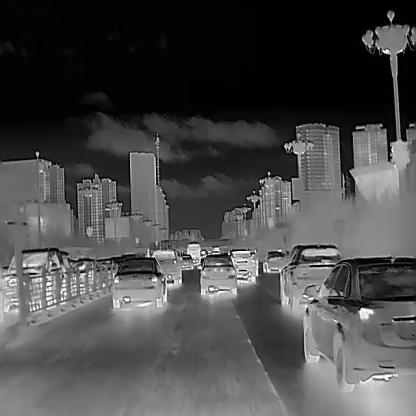car: (301, 254, 415, 392), (279, 242, 339, 310), (0, 246, 62, 310), (110, 256, 166, 308), (198, 252, 237, 293), (152, 248, 182, 286), (72, 256, 100, 287), (231, 247, 255, 280), (262, 247, 284, 273), (178, 253, 192, 269)
truck: (185, 240, 200, 265)
